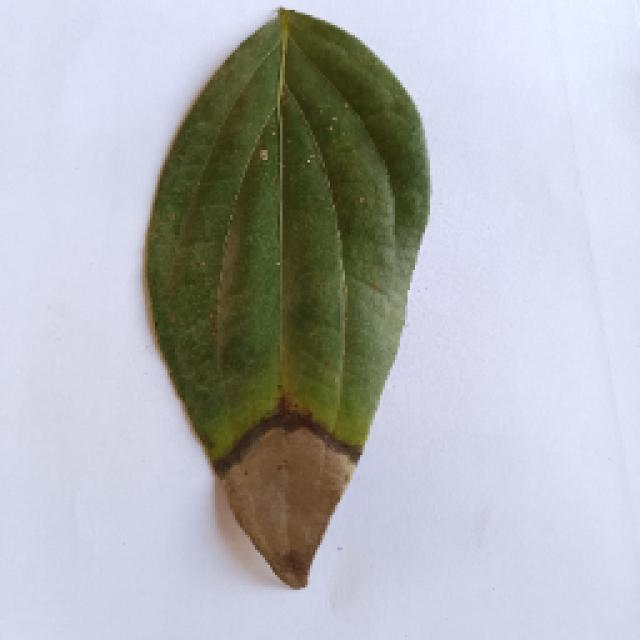footrot: (137, 10, 435, 592)
